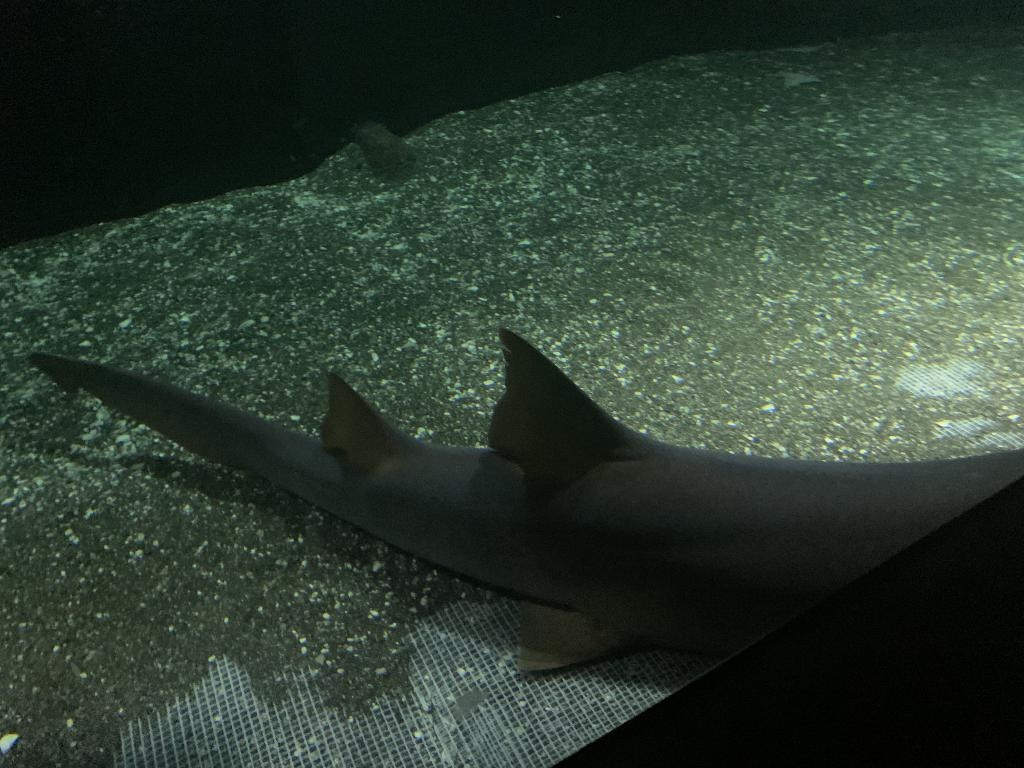shark: (29, 324, 1024, 675)
